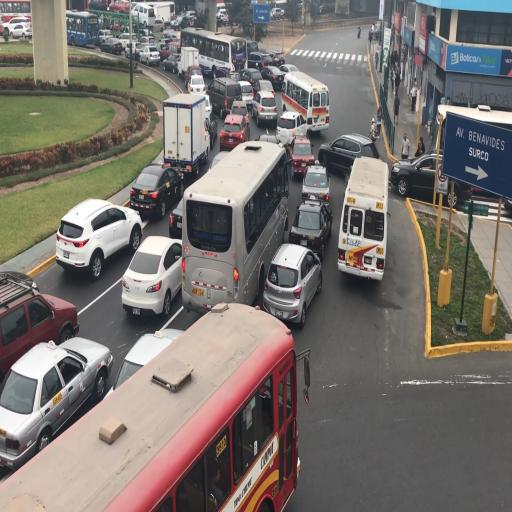auto: (0, 336, 113, 470), (0, 269, 78, 387), (55, 194, 140, 277), (108, 328, 186, 397), (121, 235, 184, 316), (391, 151, 473, 208), (57, 335, 113, 409), (129, 162, 183, 219), (182, 250, 232, 311), (320, 133, 376, 178), (273, 254, 312, 318), (53, 217, 90, 272), (294, 203, 328, 253), (301, 162, 329, 206), (276, 109, 306, 150), (219, 112, 250, 151), (290, 134, 316, 178), (252, 89, 277, 127), (254, 132, 285, 160), (260, 64, 285, 92), (1, 17, 31, 39), (234, 78, 254, 110), (240, 67, 264, 92), (230, 98, 250, 126), (247, 50, 273, 71), (137, 44, 160, 66), (161, 52, 183, 74), (253, 78, 274, 100), (100, 36, 124, 55), (265, 48, 286, 67), (278, 63, 300, 79), (177, 12, 197, 29), (189, 78, 206, 97), (138, 35, 157, 52), (158, 42, 174, 62), (108, 0, 132, 13), (125, 41, 140, 60), (160, 32, 178, 46), (202, 94, 212, 119), (88, 0, 108, 11), (120, 31, 138, 43), (140, 23, 155, 37), (270, 8, 283, 20), (222, 12, 229, 25)
bus: (163, 90, 212, 176), (178, 45, 200, 83)
camion: (369, 116, 379, 140)
moto: (2, 301, 290, 509), (180, 138, 287, 308), (433, 103, 511, 217), (336, 156, 384, 281), (280, 68, 326, 135), (181, 27, 237, 81), (66, 10, 101, 48), (146, 0, 175, 28)
